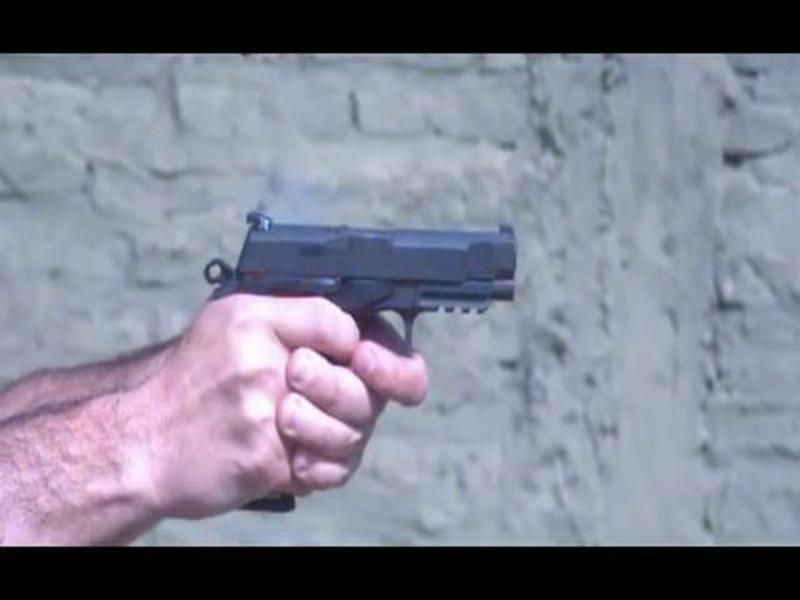Pistola: (167, 176, 552, 364)
